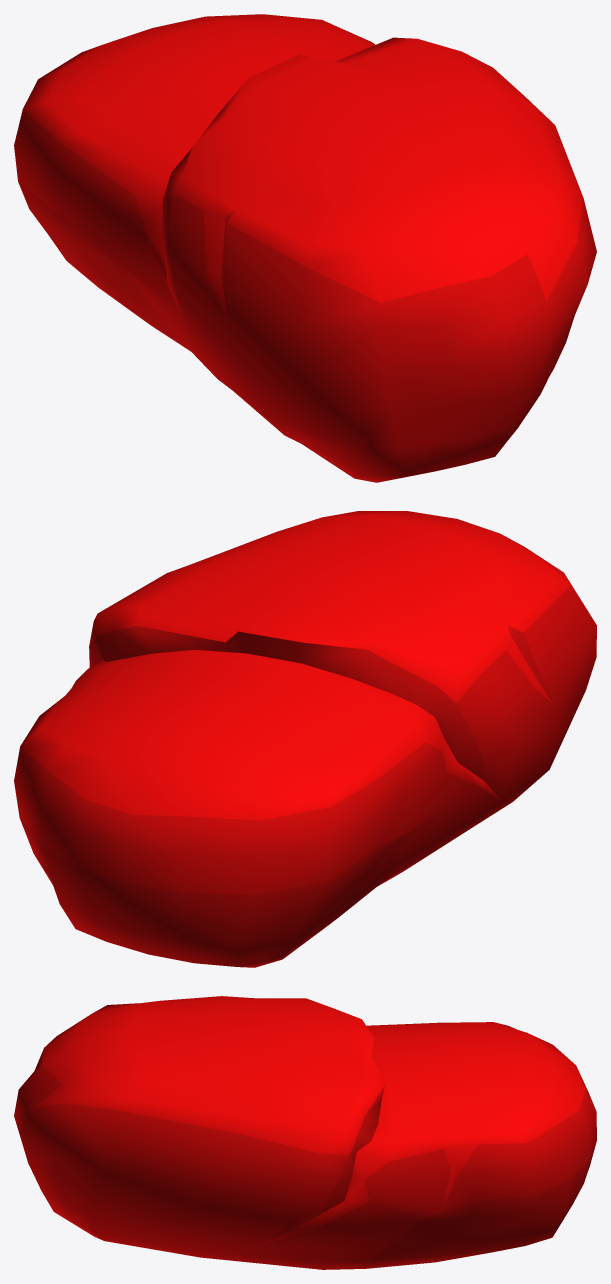
Rendered from geology-rocks-whiterock_v1.fbx.
3 views of the same model, one above another, from view 1: azimuth 30°, elevation 25°; view 2: azimuth 150°, elevation 25°; view 3: azimuth 270°, elevation 25° (orthographic). The views are drawn at different scales.
Parts seen in each view (by area): view 1: WhiteRock_v1; view 2: WhiteRock_v1; view 3: WhiteRock_v1.
Part boxes in pixels (x1,y1,x2,y2): WhiteRock_v1: (14,14,596,482); WhiteRock_v1: (14,511,596,967); WhiteRock_v1: (14,996,596,1269).
Size of the model in its own units: 7.36 by 4.9 by 12.37.
